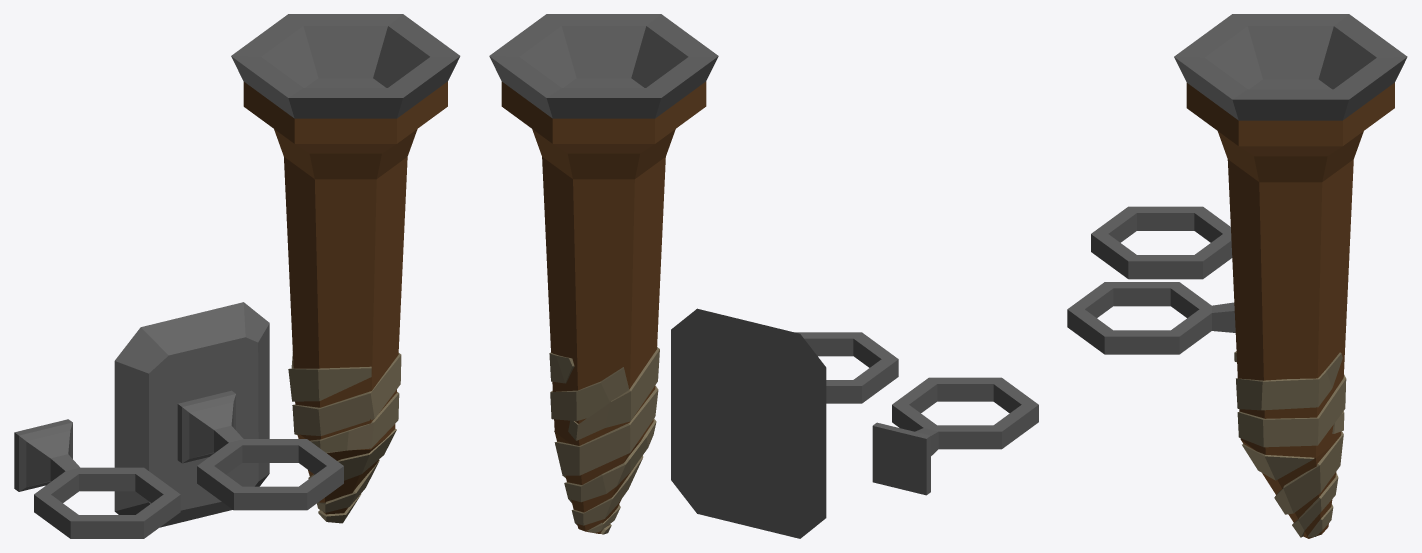
File: torch and handles.fbx
The picture shows the model from 3 angles, left to right: view 1: azimuth 30°, elevation 25°; view 2: azimuth 150°, elevation 25°; view 3: azimuth 270°, elevation 25°; orthographic projection.
Parts seen in each view (by area): view 1: Torch, Handle, Headle_part; view 2: Torch, Handle, Headle_part; view 3: Torch, Handle, Headle_part.
Boxes of the visible parts, x1,y1,x2,y2 form: Torch: [231, 14, 460, 523]; Handle: [114, 302, 343, 527]; Headle_part: [14, 419, 180, 538]; Torch: [489, 14, 718, 534]; Handle: [671, 308, 898, 538]; Headle_part: [872, 377, 1038, 495]; Torch: [1174, 14, 1407, 538]; Handle: [1067, 282, 1235, 354]; Headle_part: [1091, 206, 1232, 279].
Bounding box in the file's own units: 568 × 581 × 373.
